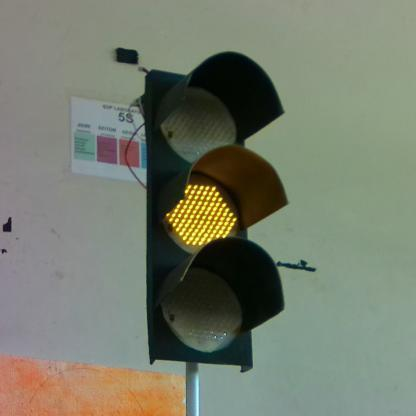yellow: (145, 55, 282, 368)
